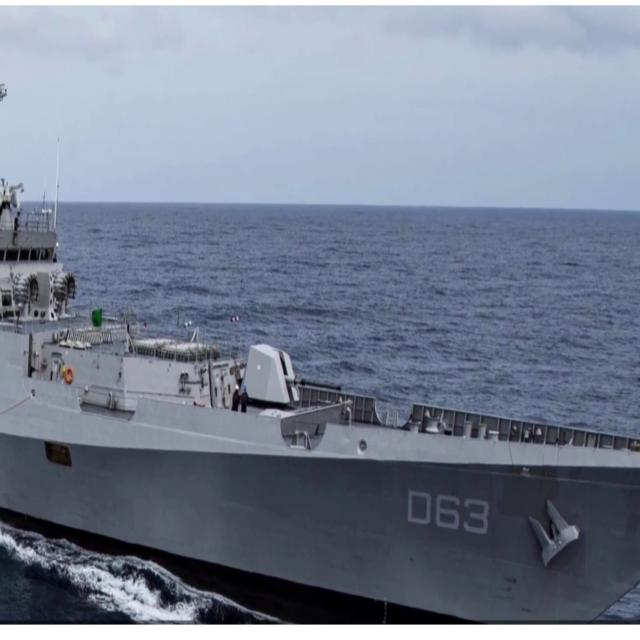OCR: (404, 484, 493, 544)
